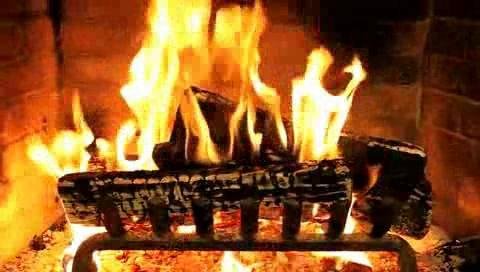fire: (88, 5, 357, 174)
